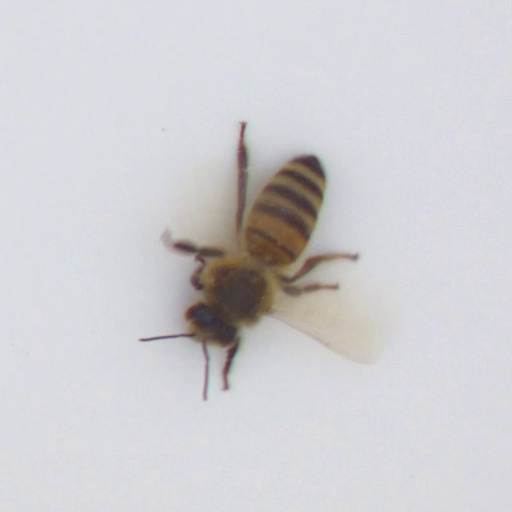Bee: (177, 156, 327, 347)
Thorax: (203, 266, 266, 319)
